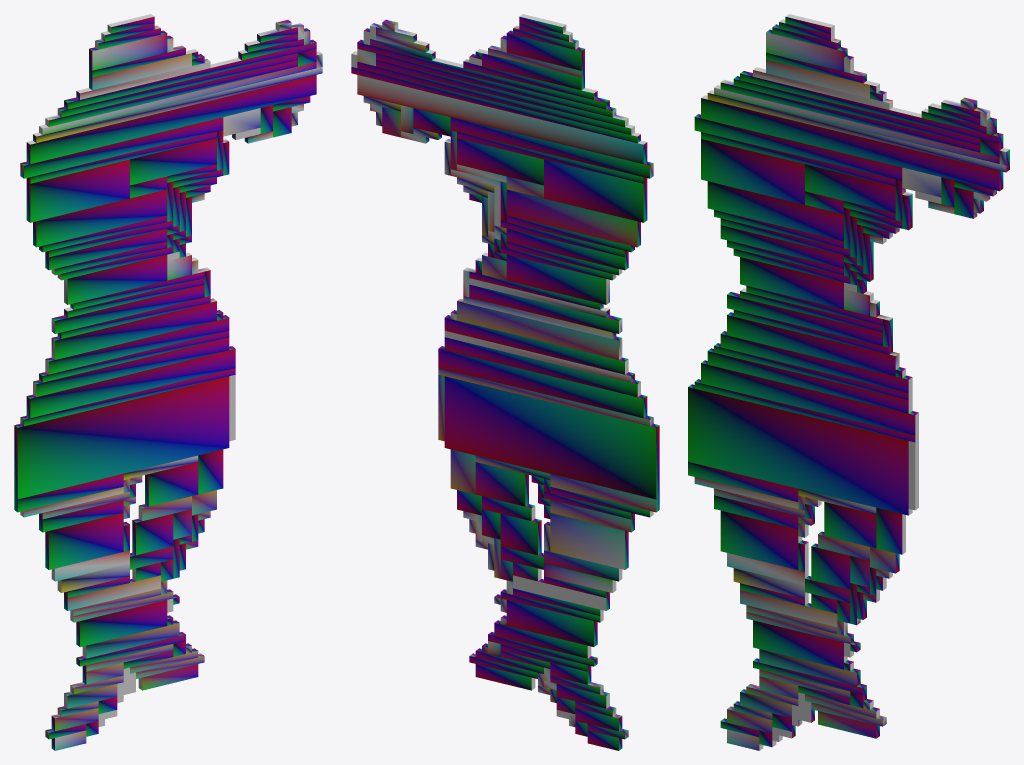
Rendered from WINDUP.obj.
3 views of the same model, side by side, from view 1: azimuth 30°, elevation 25°; view 2: azimuth 150°, elevation 25°; view 3: azimuth 330°, elevation 25° (orthographic). The views are drawn at different scales.
Size of the model in its own units: 49 by 109 by 1.
